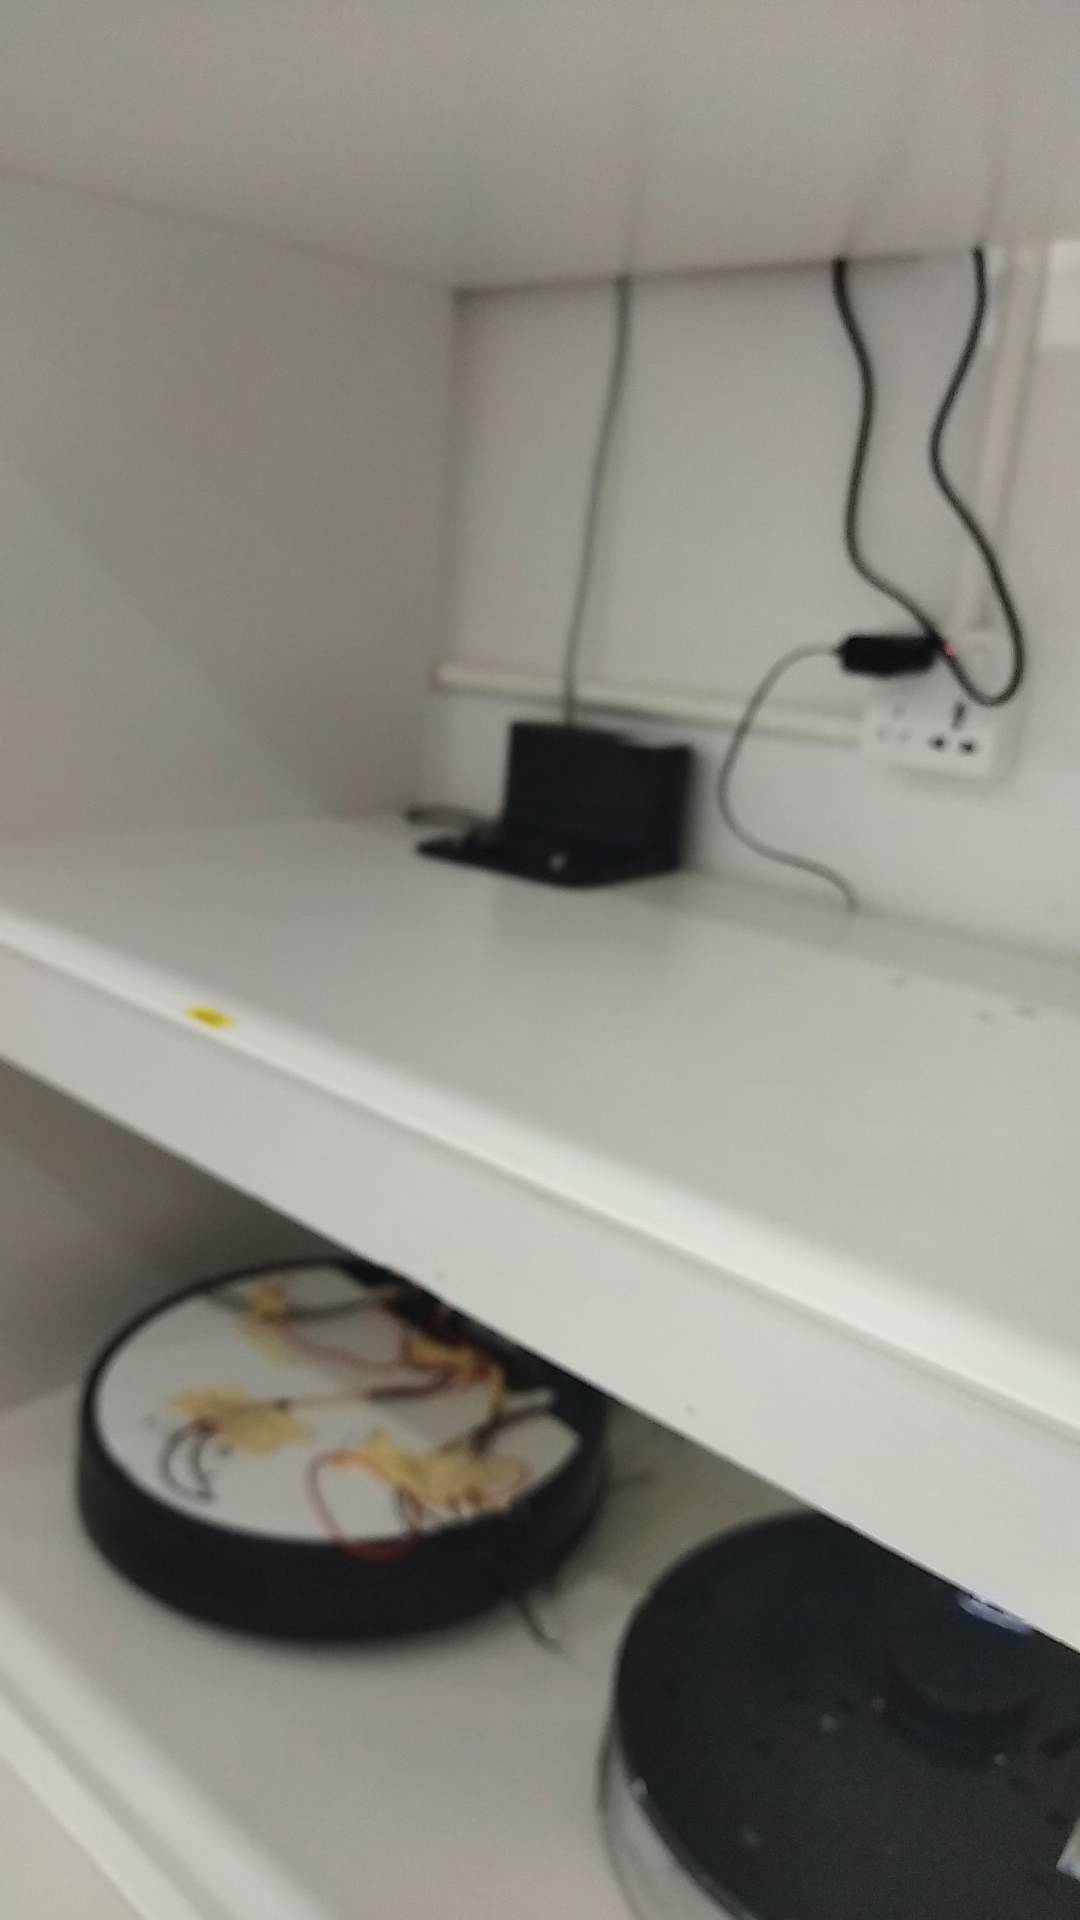recharge seat: (415, 715, 702, 887)
